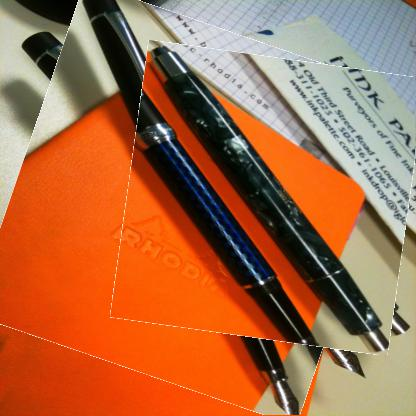Pen: (0, 4, 387, 403), (119, 48, 415, 348)
